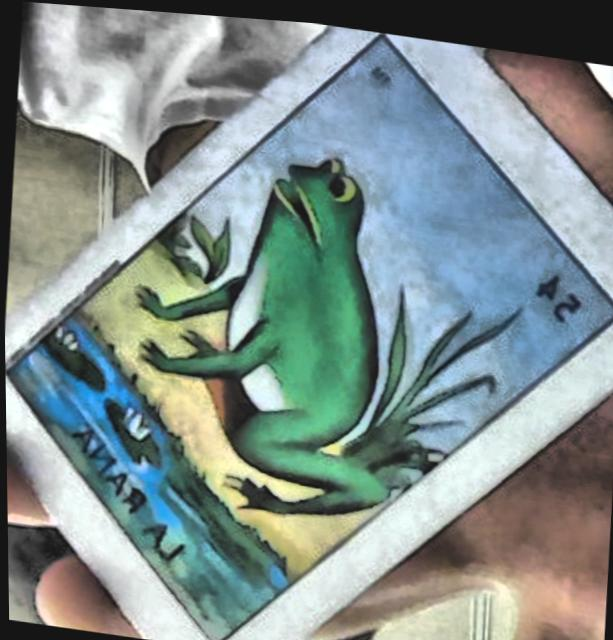La Rana: (4, 32, 613, 640)
